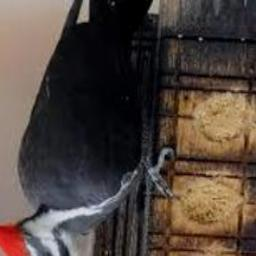Woodpecker: (0, 0, 177, 256)
